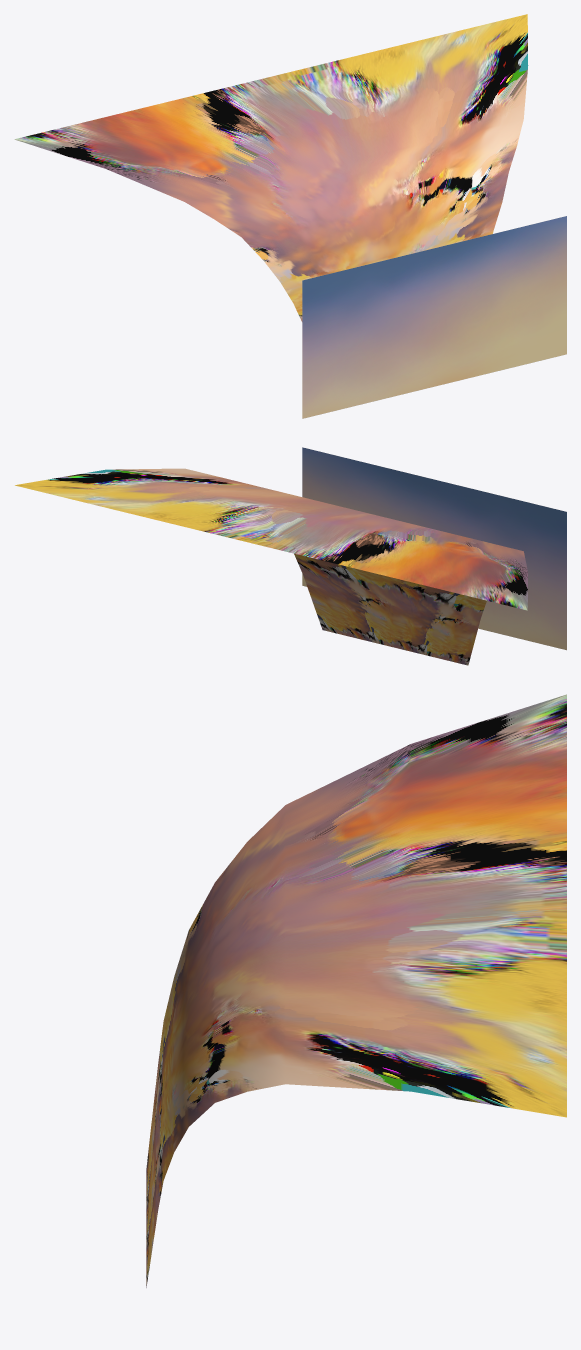
Rendered from Loading_03_BeiJngPian.FBX.
The picture shows the model from 3 angles, top to bottom: view 1: azimuth 30°, elevation 25°; view 2: azimuth 150°, elevation 25°; view 3: azimuth 270°, elevation 25°; orthographic projection. The views are drawn at different scales.
Parts seen in each view (by area): view 1: Loading_03_06, Loading_03_07; view 2: Loading_03_06, Loading_03_07; view 3: Loading_03_06.
Part boxes in pixels (<box>): Loading_03_06: <box>14,14,528,321</box>; Loading_03_07: <box>302,216,566,418</box>; Loading_03_06: <box>15,468,527,665</box>; Loading_03_07: <box>302,447,566,650</box>; Loading_03_06: <box>146,694,566,1287</box>.
Bounding box in the file's own units: 43490 × 15457 × 24021.
